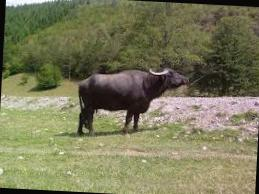Buffalo: (26, 49, 201, 153)
